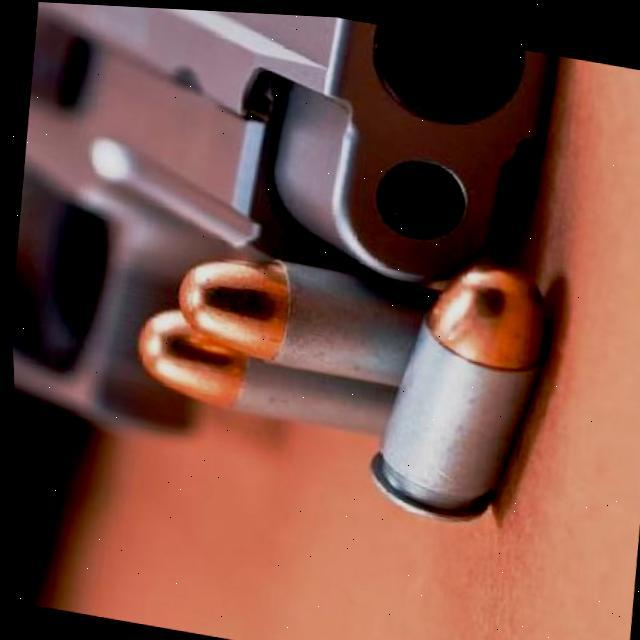gun: (0, 0, 570, 504)
